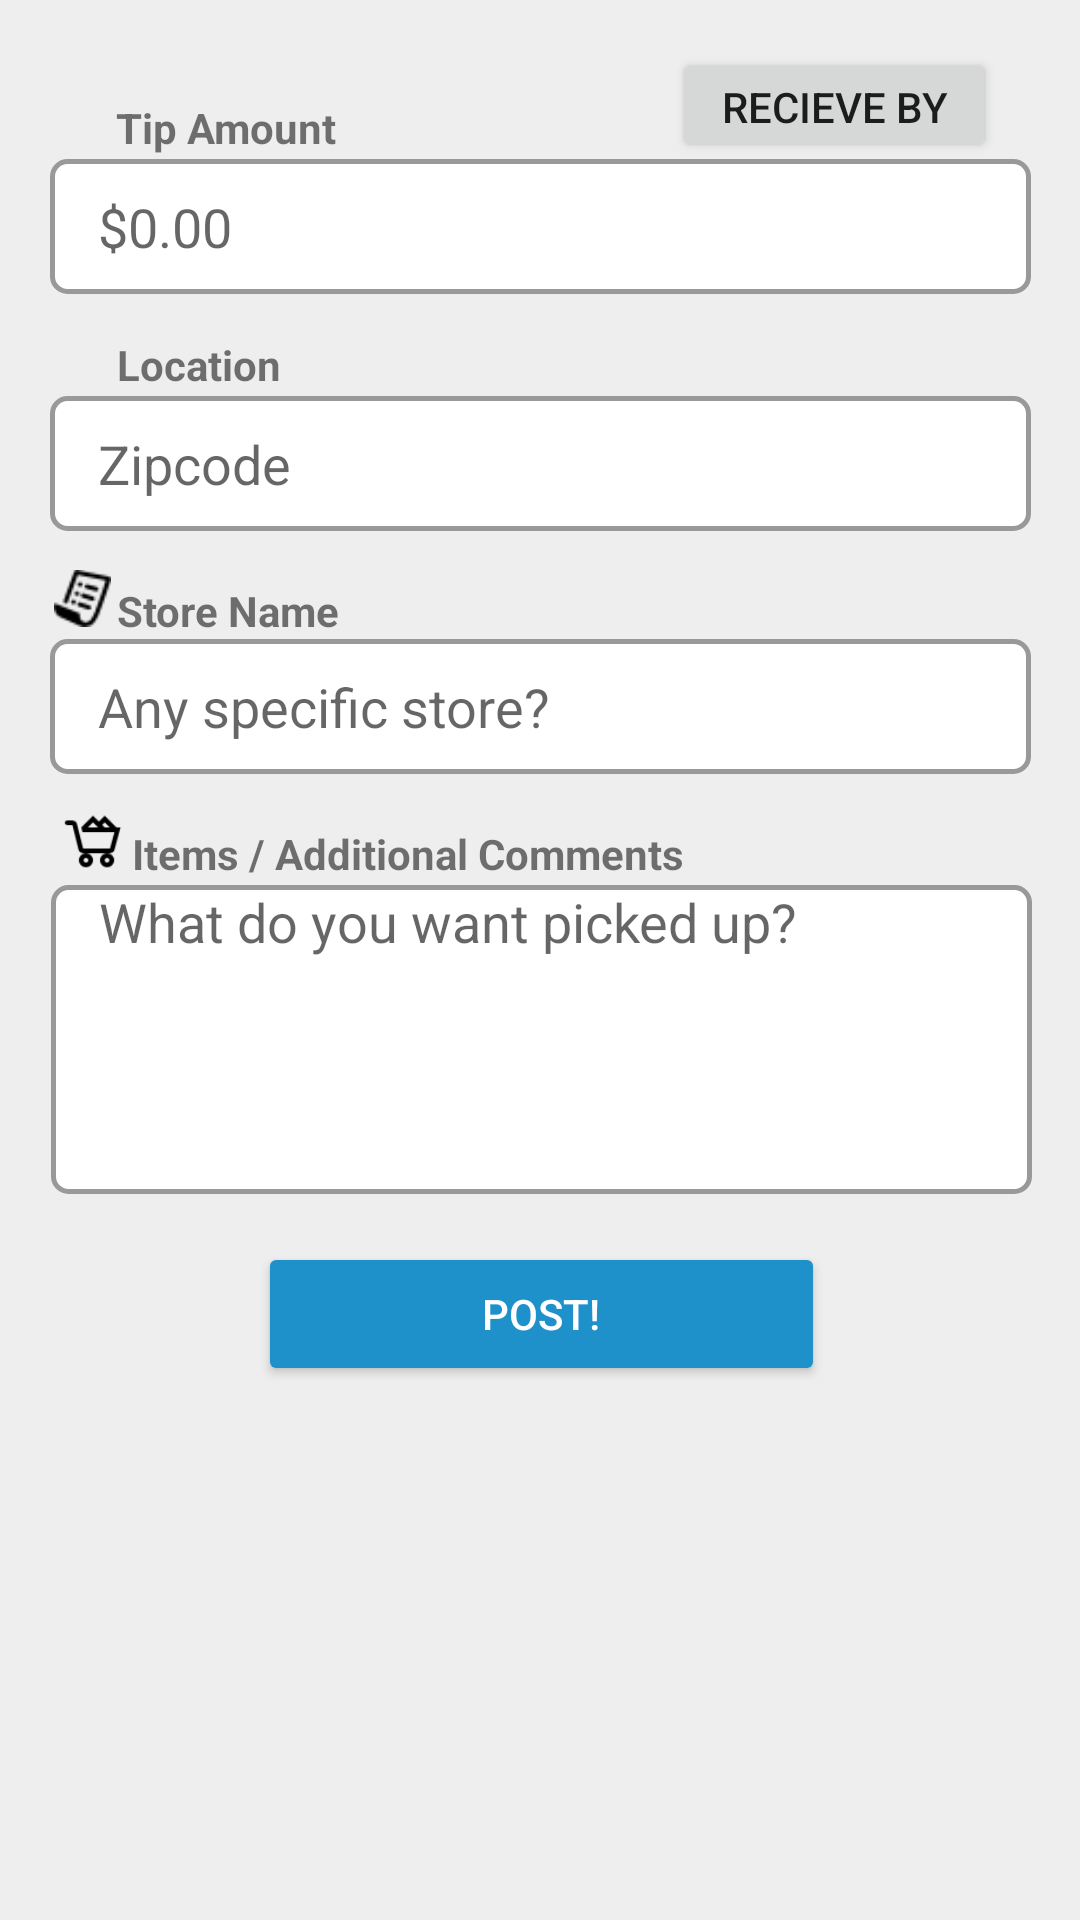

Where to tap for icons on this 1080w x 1920h app screen, as (x,y):
shoppingcart: (101,842)
